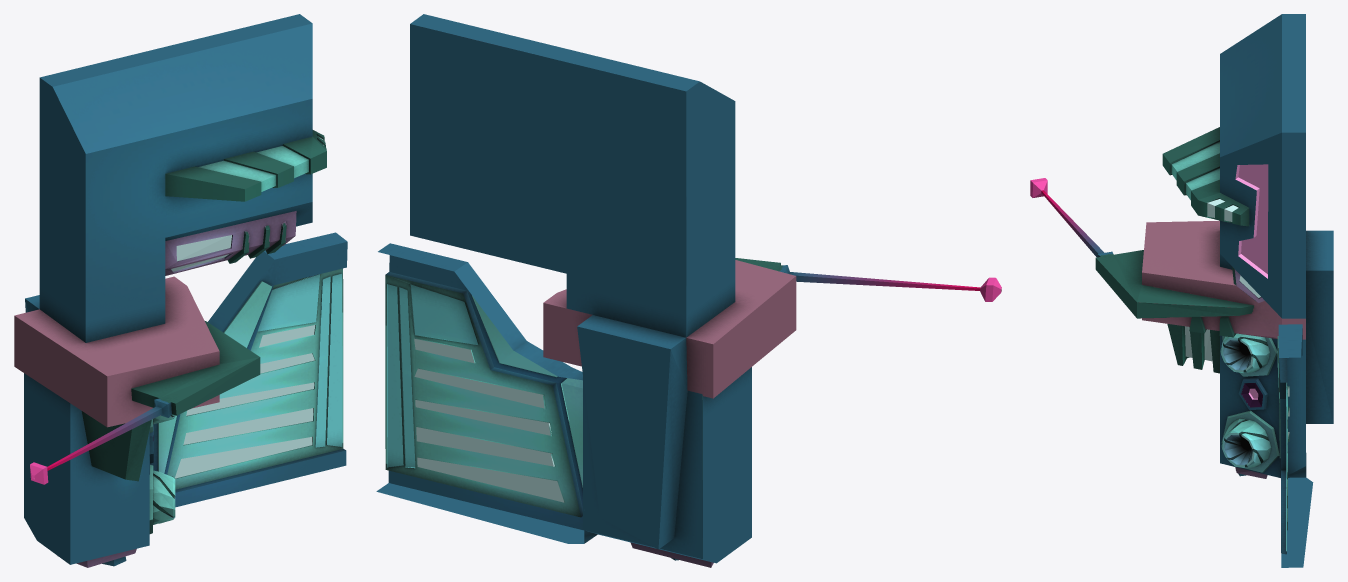
Rendered from ThugShip_Tile_Bay_06.fbx.
3 renders of one model, left to right at view 1: azimuth 30°, elevation 25°; view 2: azimuth 150°, elevation 25°; view 3: azimuth 270°, elevation 25°, orthographic. The views are drawn at different scales.
Visible parts, largest first — view 1: ThugShip_Tile_Bay_06, ThugShip_Tile_Bay_06_Glow_2, ThugShip_Tile_Bay_06_turbine_01; view 2: ThugShip_Tile_Bay_06, ThugShip_Tile_Bay_06_Glow_2; view 3: ThugShip_Tile_Bay_06, ThugShip_Tile_Bay_06_Glow_3, ThugShip_Tile_Bay_06_turbine_01, ThugShip_Tile_Bay_06_turbine_02, ThugShip_Tile_Bay_06_Glow_2.
Part boxes in pixels (<box>): ThugShip_Tile_Bay_06: <box>14,14,347,567</box>; ThugShip_Tile_Bay_06_Glow_2: <box>171,137,323,478</box>; ThugShip_Tile_Bay_06_turbine_01: <box>153,470,175,524</box>; ThugShip_Tile_Bay_06: <box>376,14,980,567</box>; ThugShip_Tile_Bay_06_Glow_2: <box>414,338,564,502</box>; ThugShip_Tile_Bay_06: <box>1041,14,1333,567</box>; ThugShip_Tile_Bay_06_Glow_3: <box>1235,164,1268,399</box>; ThugShip_Tile_Bay_06_turbine_01: <box>1221,418,1271,467</box>; ThugShip_Tile_Bay_06_turbine_02: <box>1220,333,1269,373</box>; ThugShip_Tile_Bay_06_Glow_2: <box>1185,199,1289,438</box>.
Bounding box in the file's own units: 100 × 102 × 63.4.
Materials: 6 (3 with a texture image).
